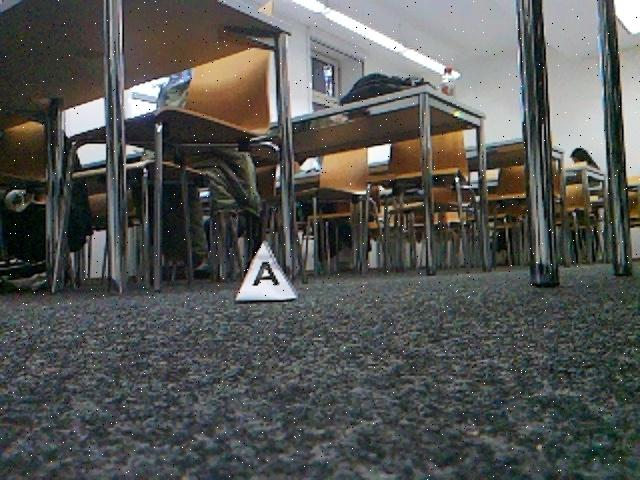A: (235, 239, 298, 307)
